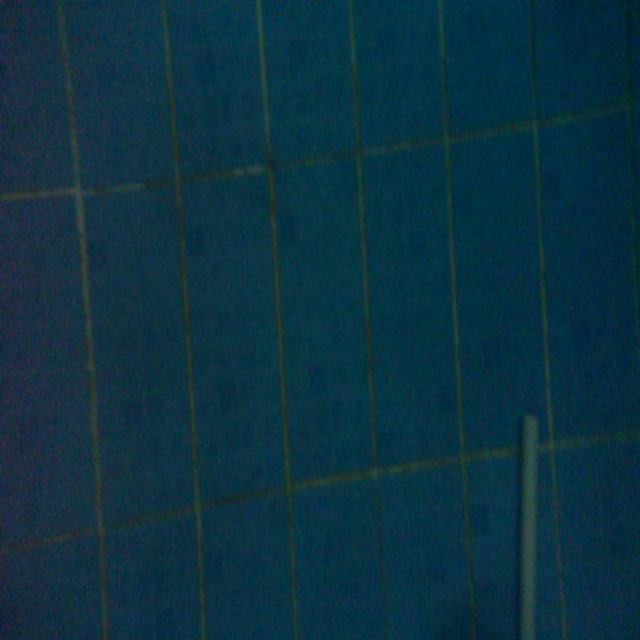Cube: (516, 409, 540, 636)
